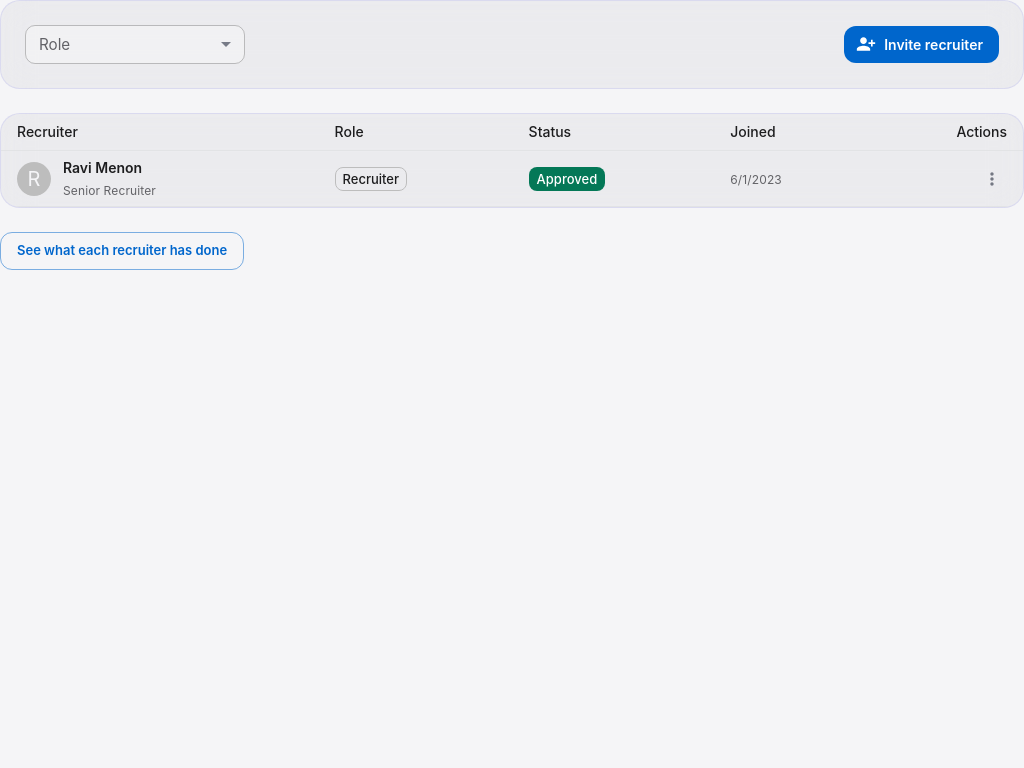
Test: CompanyRecruiters › suspends a recruiter’s access to the company
Click the button named "Actions for Ravi Menon". click: point(992, 178)
box: [977,164,1007,194]
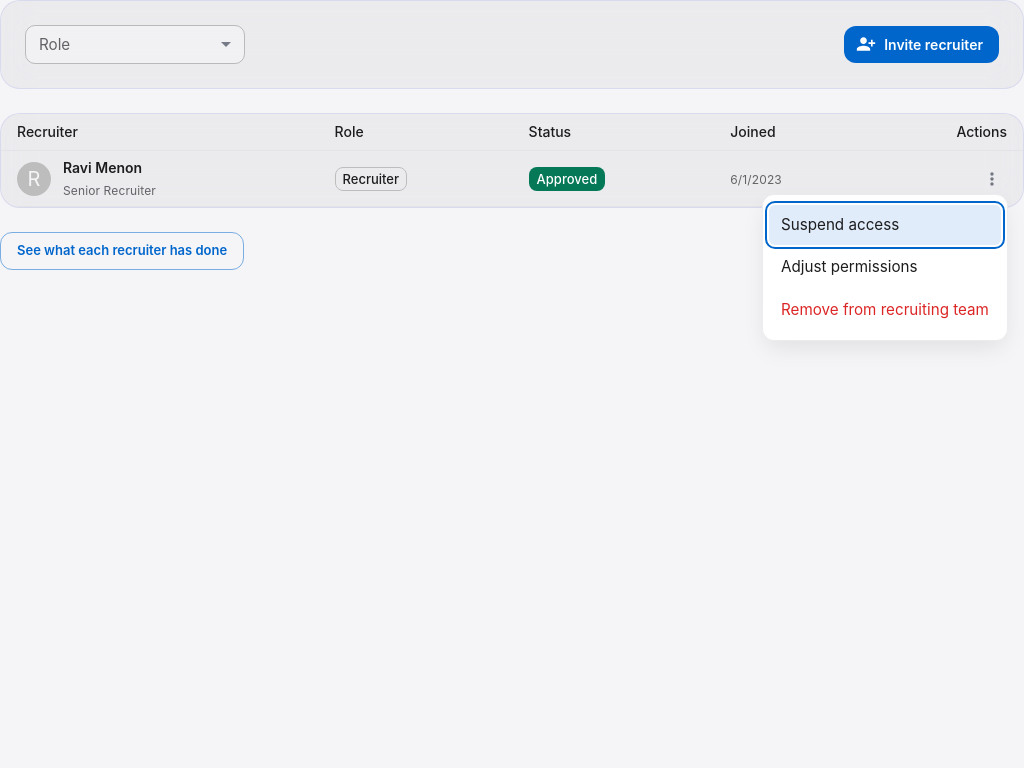
Click the menu item "Suspend access". click: point(885, 225)
box: [769,205,1001,245]
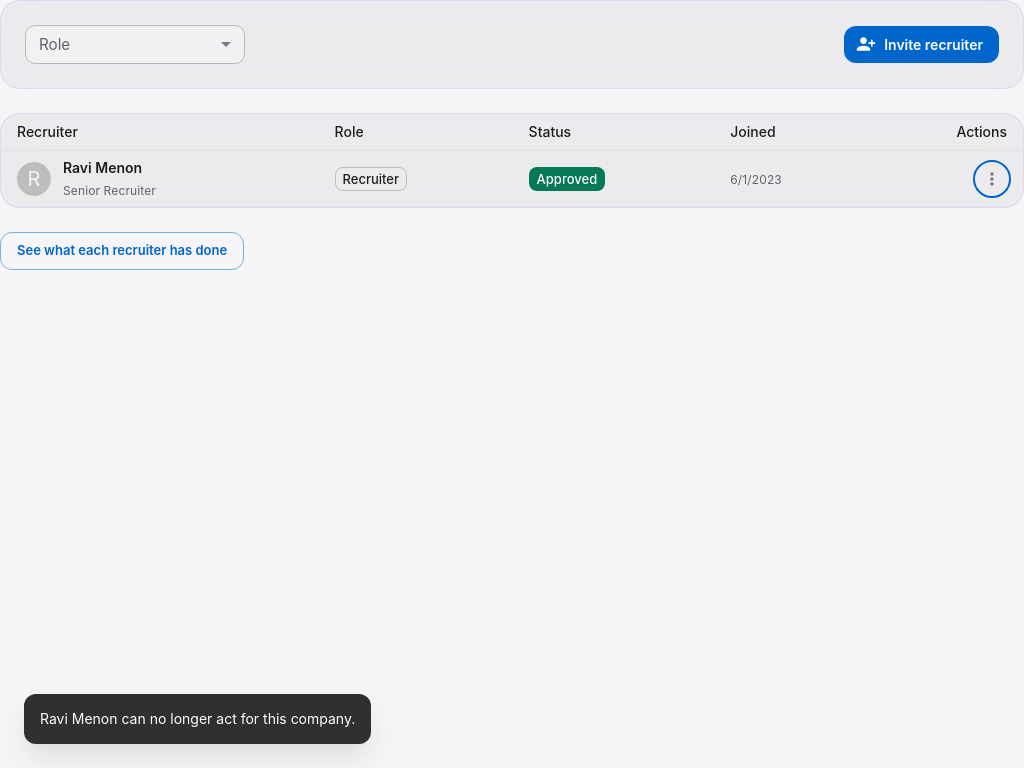
Expected: the text "Ravi Menon can no longer act for this company." is shown, [40,710,355,727]
